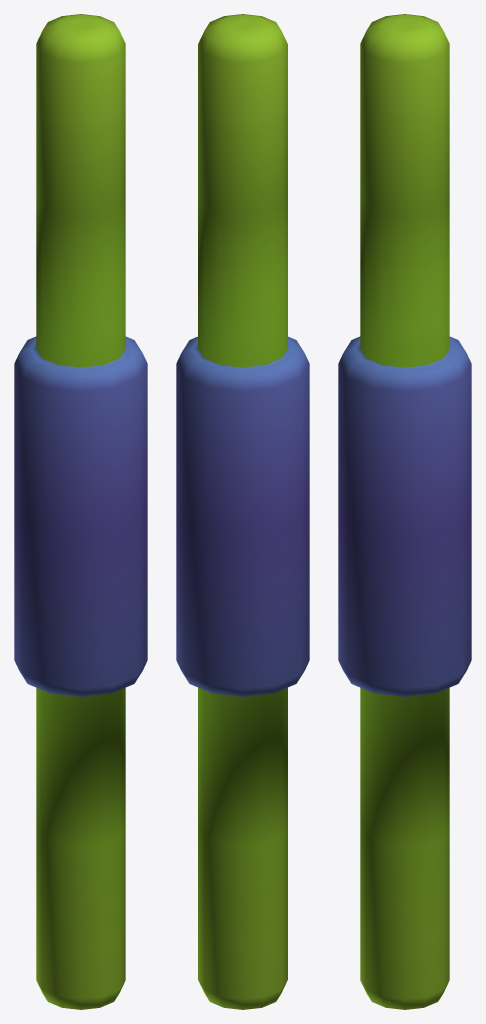
File: OBS0110196.fbx
The picture shows the model from 3 angles, left to right: view 1: azimuth 90°, elevation 25°; view 2: azimuth 150°, elevation 25°; view 3: azimuth 270°, elevation 25°; orthographic projection.
Parts seen in each view (by area): view 1: smOBS0110196; view 2: smOBS0110196; view 3: smOBS0110196.
Boxes of the visible parts, x1,y1,x2,y2 form: smOBS0110196: (14, 14, 147, 1009); smOBS0110196: (176, 14, 309, 1009); smOBS0110196: (338, 14, 471, 1009).
Size of the model in its own units: 54.75 by 442 by 54.75.
1 material, 1 textured.
